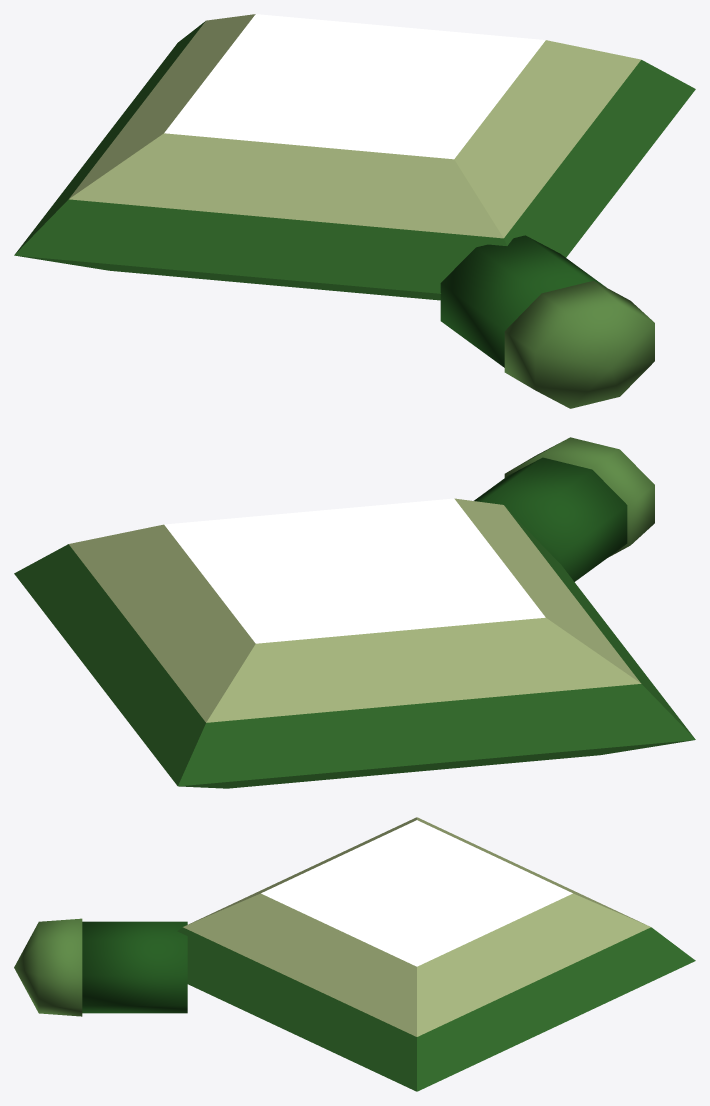
The model's file is newshv-38.glb.
3 views of the same model, one above another, from view 1: azimuth 30°, elevation 25°; view 2: azimuth 150°, elevation 25°; view 3: azimuth 270°, elevation 25° (orthographic). The views are drawn at different scales.
Parts seen in each view (by area): view 1: newshv-38, newshv-38_stalk; view 2: newshv-38, newshv-38_stalk; view 3: newshv-38, newshv-38_stalk.
Part boxes in pixels (bbox=[...]): newshv-38: bbox=[14, 14, 695, 300]; newshv-38_stalk: bbox=[440, 235, 654, 408]; newshv-38: bbox=[14, 498, 695, 788]; newshv-38_stalk: bbox=[474, 437, 654, 581]; newshv-38: bbox=[177, 817, 695, 1091]; newshv-38_stalk: bbox=[14, 918, 187, 1016].
Size of the model in its own units: 0.8333 by 0.235 by 0.9167.
